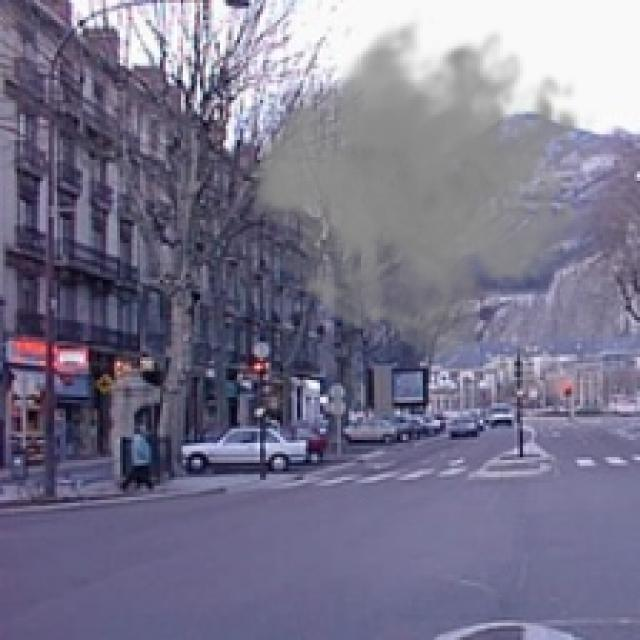smoke: (243, 9, 600, 368)
